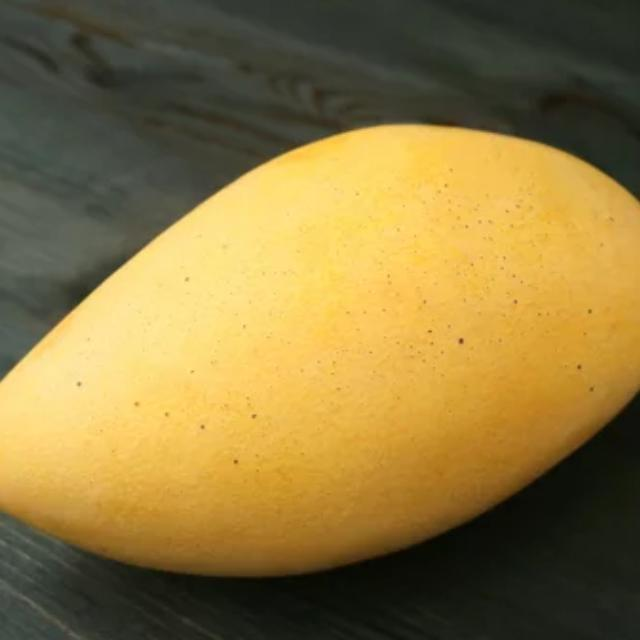mango: (0, 122, 640, 574)
